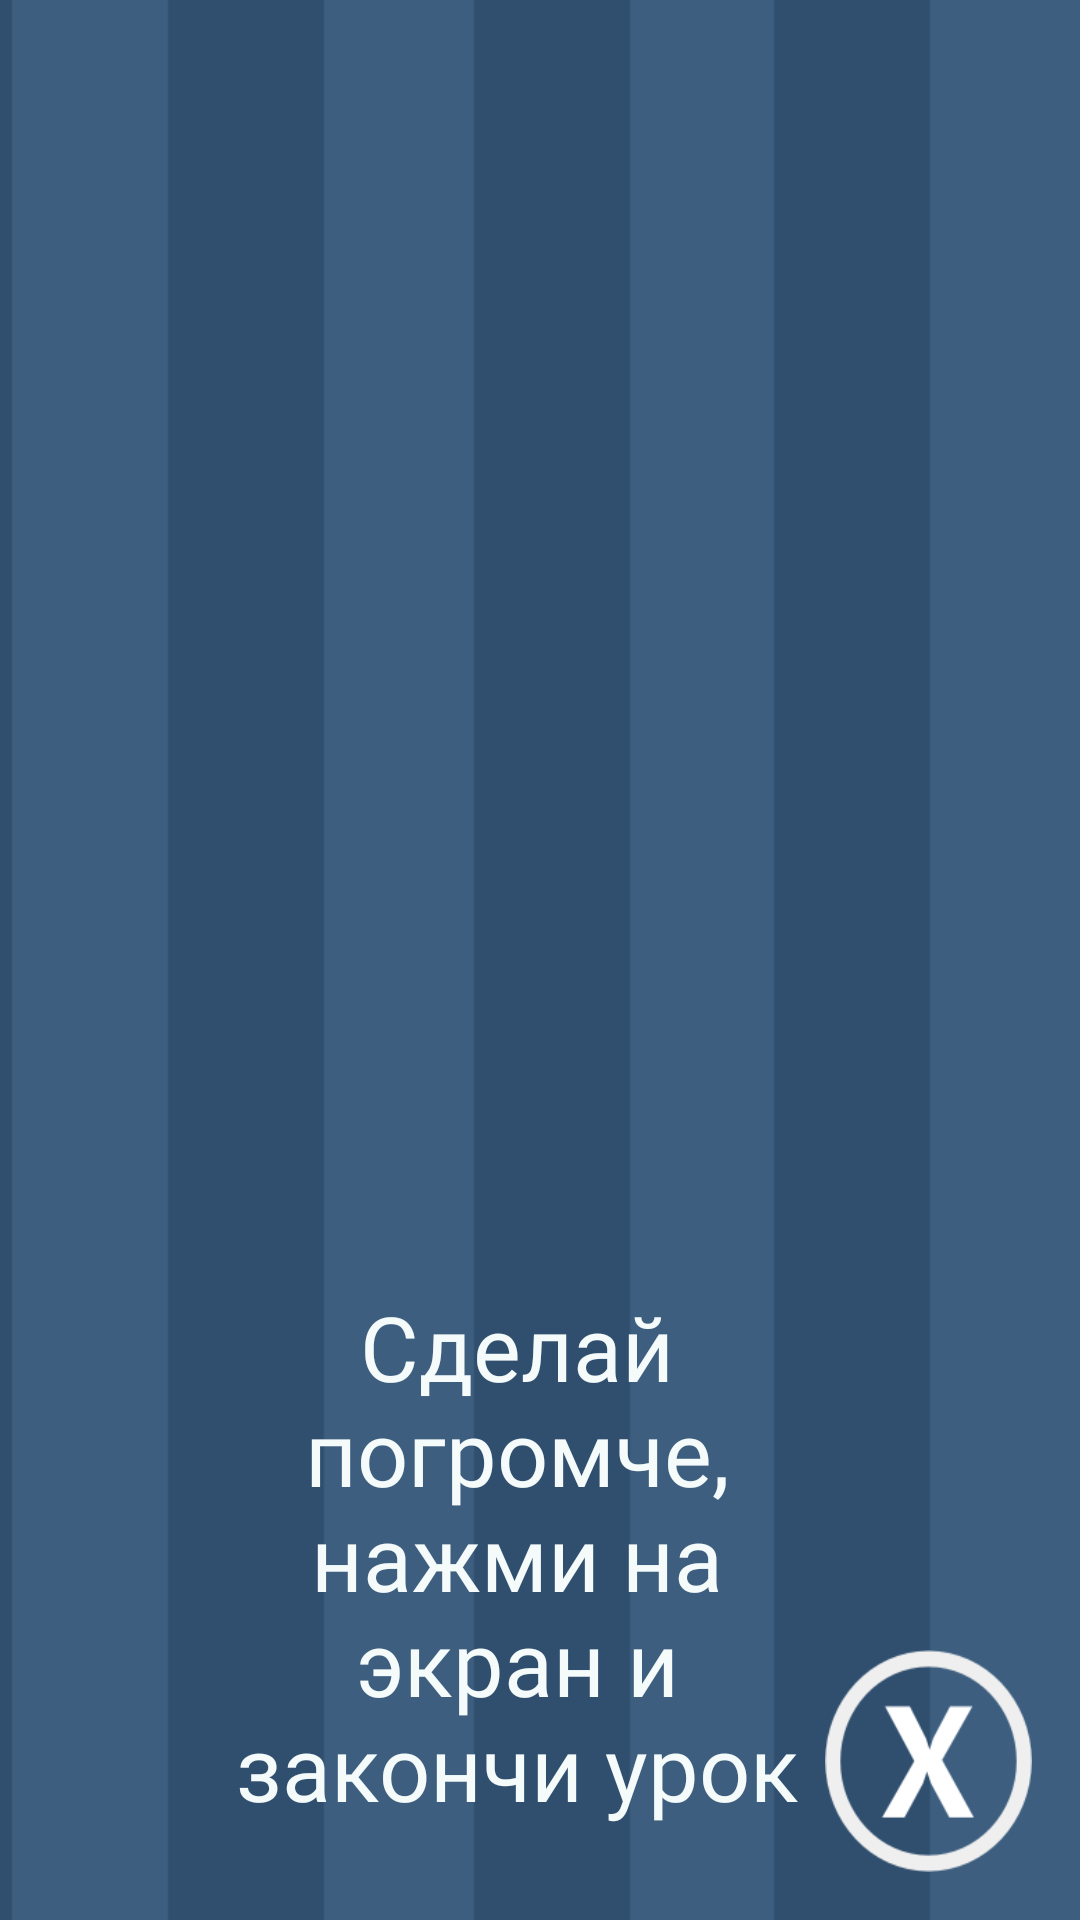

Where to tap for icons on this 1080×1920 app screen, as [x,y]:
close: [928,1761]
